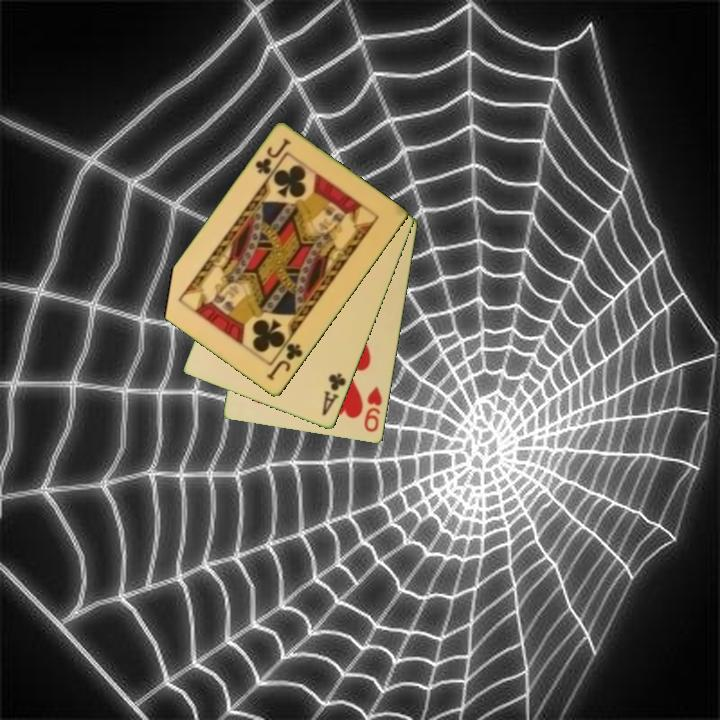9h: (361, 383, 385, 435)
Ac: (319, 370, 349, 419)
Jc: (263, 340, 306, 384), (252, 135, 294, 178)
